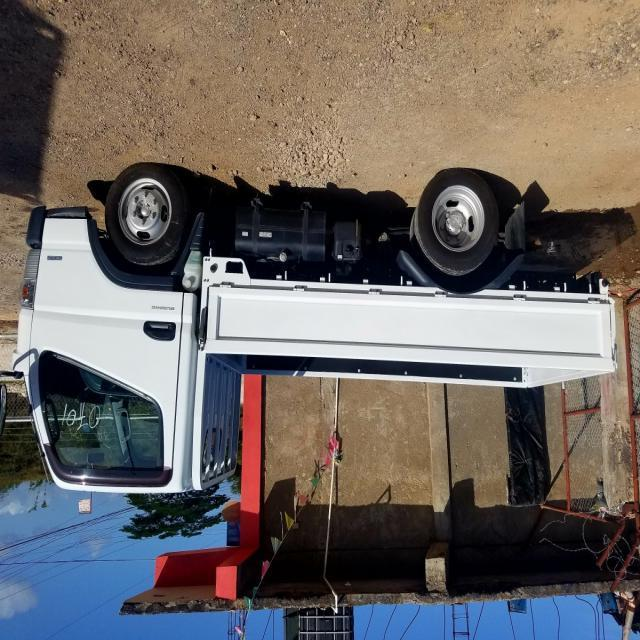truck: (16, 169, 616, 496)
